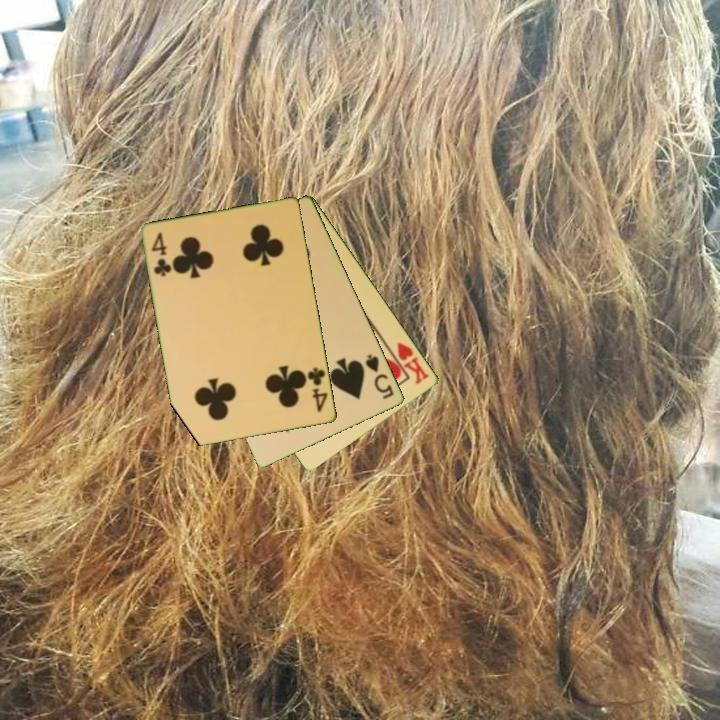4c: (304, 364, 331, 415), (148, 229, 174, 280)
5s: (362, 351, 397, 402)
Kh: (385, 338, 433, 387)
